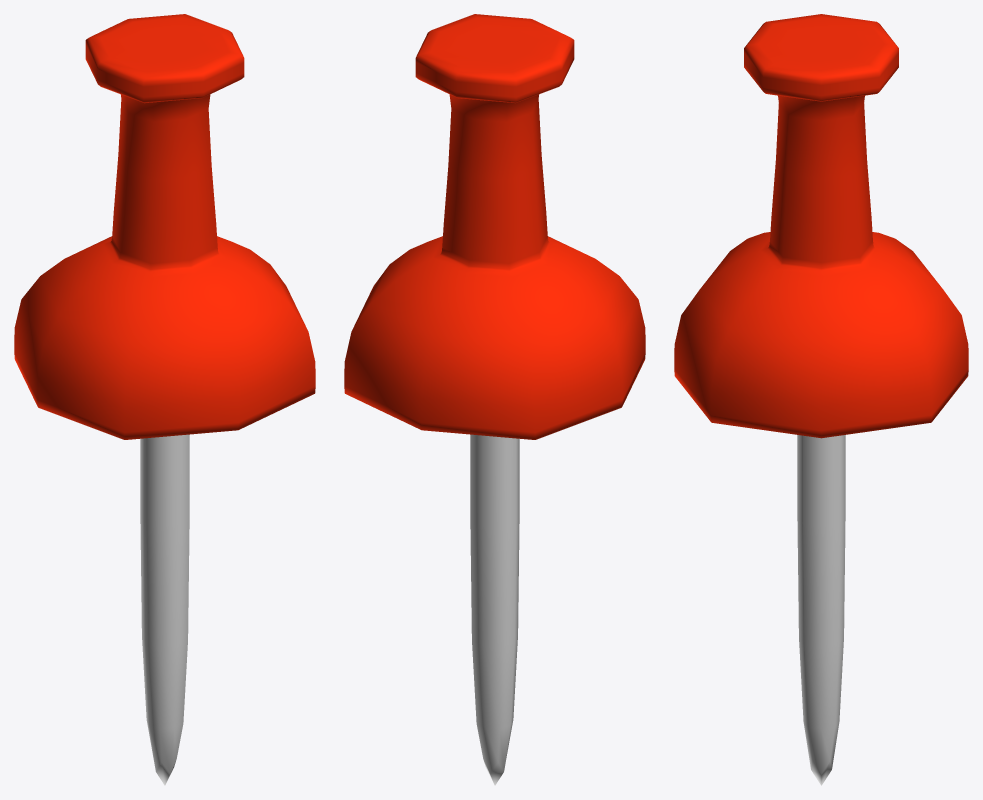
The model's file is pin_silkVr.FBX.
The picture shows the model from 3 angles, left to right: view 1: azimuth 30°, elevation 25°; view 2: azimuth 150°, elevation 25°; view 3: azimuth 270°, elevation 25°; orthographic projection.
Parts seen in each view (by area): view 1: Box001; view 2: Box001; view 3: Box001.
Part boxes in pixels (x1,y1,x2,y2): Box001: (14, 14, 315, 785); Box001: (344, 14, 645, 785); Box001: (674, 14, 968, 785).
Size of the model in its own units: 3.39 by 9.42 by 3.39.
